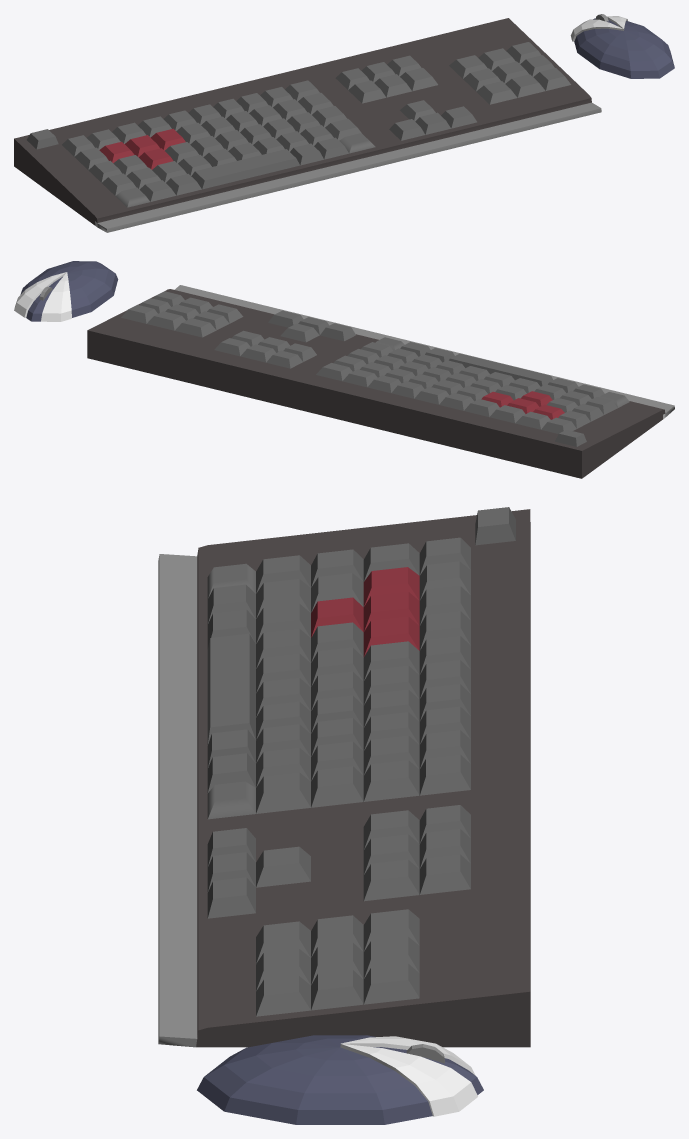
Rendered from Teclado y Mouse.fbx.
3 renders of one model, top to bottom at view 1: azimuth 30°, elevation 25°; view 2: azimuth 150°, elevation 25°; view 3: azimuth 270°, elevation 25°, orthographic. The views are drawn at different scales.
Parts seen in each view (by area): view 1: Teclado_y_Mouse; view 2: Teclado_y_Mouse; view 3: Teclado_y_Mouse.
Boxes of the visible parts, <box> form: Teclado_y_Mouse: <box>14,14,674,232</box>; Teclado_y_Mouse: <box>14,261,674,478</box>; Teclado_y_Mouse: <box>158,507,530,1124</box>.
Size of the model in its own units: 1.39 by 0.0778 by 0.3757.
